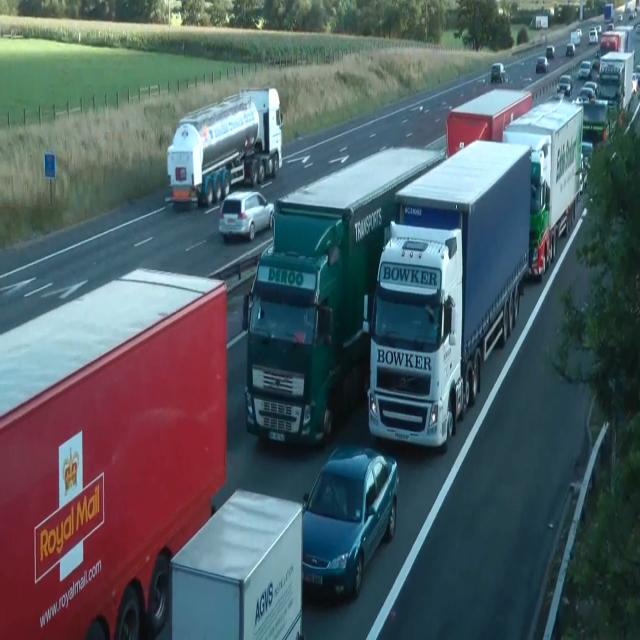bus: (301, 443, 399, 601), (218, 189, 274, 242), (556, 74, 572, 96), (491, 62, 506, 84), (581, 141, 593, 167), (577, 87, 595, 102), (578, 60, 592, 79), (584, 81, 600, 97), (536, 56, 548, 73), (631, 71, 639, 95), (588, 26, 598, 44), (566, 43, 576, 57), (546, 44, 554, 58), (591, 57, 599, 70), (606, 22, 614, 31), (576, 28, 582, 38), (596, 25, 602, 34), (617, 14, 623, 22)
car: (0, 265, 228, 638)
minibus: (241, 144, 445, 448), (363, 138, 531, 449), (169, 487, 303, 639), (502, 98, 584, 280), (165, 85, 283, 211), (445, 87, 533, 159), (595, 49, 635, 115), (571, 95, 610, 147), (599, 28, 629, 58), (528, 15, 548, 29), (603, 3, 615, 23)
